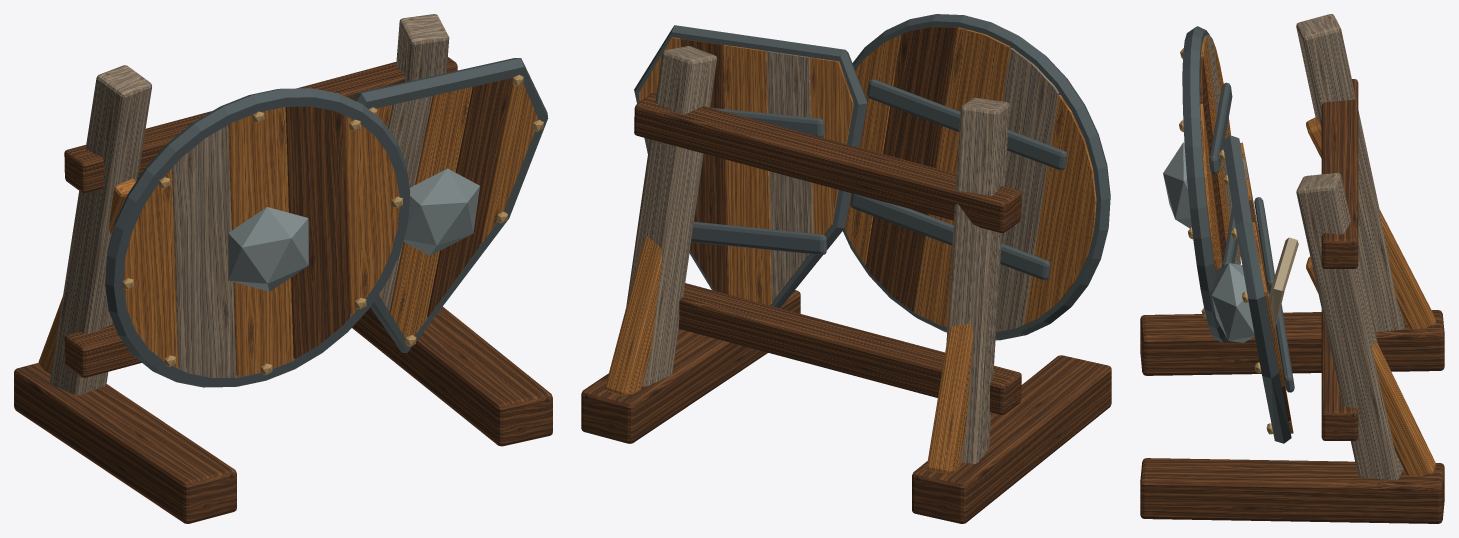
Rendered from shieldRack.glb.
3 renders of one model, left to right at view 1: azimuth 30°, elevation 25°; view 2: azimuth 150°, elevation 25°; view 3: azimuth 270°, elevation 25°, orthographic. The views are drawn at different scales.
Visible parts, largest first — view 1: GEO-shieldRack-Wood-dark, GEO-shieldRack-Wood-warm, GEO-shieldRack-Wood-grey, GEO-shieldRack-iron, GEO-shieldRack-rim, GEO-shieldRack-brass; view 2: GEO-shieldRack-Wood-dark, GEO-shieldRack-Wood-warm, GEO-shieldRack-Wood-grey, GEO-shieldRack-iron; view 3: GEO-shieldRack-Wood-dark, GEO-shieldRack-Wood-grey, GEO-shieldRack-iron, GEO-shieldRack-Wood-warm, GEO-shieldRack-rim, GEO-shieldRack-hemp, GEO-shieldRack-brass.
Boxes of the visible parts, x1,y1,x2,y2 form: GEO-shieldRack-Wood-dark: (14,57,552,523); GEO-shieldRack-Wood-warm: (38,79,538,377); GEO-shieldRack-Wood-grey: (49,14,449,395); GEO-shieldRack-iron: (105,58,548,387); GEO-shieldRack-rim: (228,168,479,291); GEO-shieldRack-brass: (122,74,543,374); GEO-shieldRack-Wood-dark: (581,26,1111,523); GEO-shieldRack-Wood-warm: (605,27,1096,474); GEO-shieldRack-Wood-grey: (626,46,1059,463); GEO-shieldRack-iron: (634,14,1110,340); GEO-shieldRack-Wood-dark: (1140,57,1444,523); GEO-shieldRack-Wood-grey: (1205,14,1404,480); GEO-shieldRack-iron: (1182,26,1294,443); GEO-shieldRack-Wood-warm: (1200,36,1435,476); GEO-shieldRack-rim: (1163,142,1254,342); GEO-shieldRack-hemp: (1267,237,1298,328); GEO-shieldRack-brass: (1179,48,1273,434).
Bounding box in the file's own units: 1.36 × 1.09 × 0.8348.
Materials: 7 (3 with a texture image).
